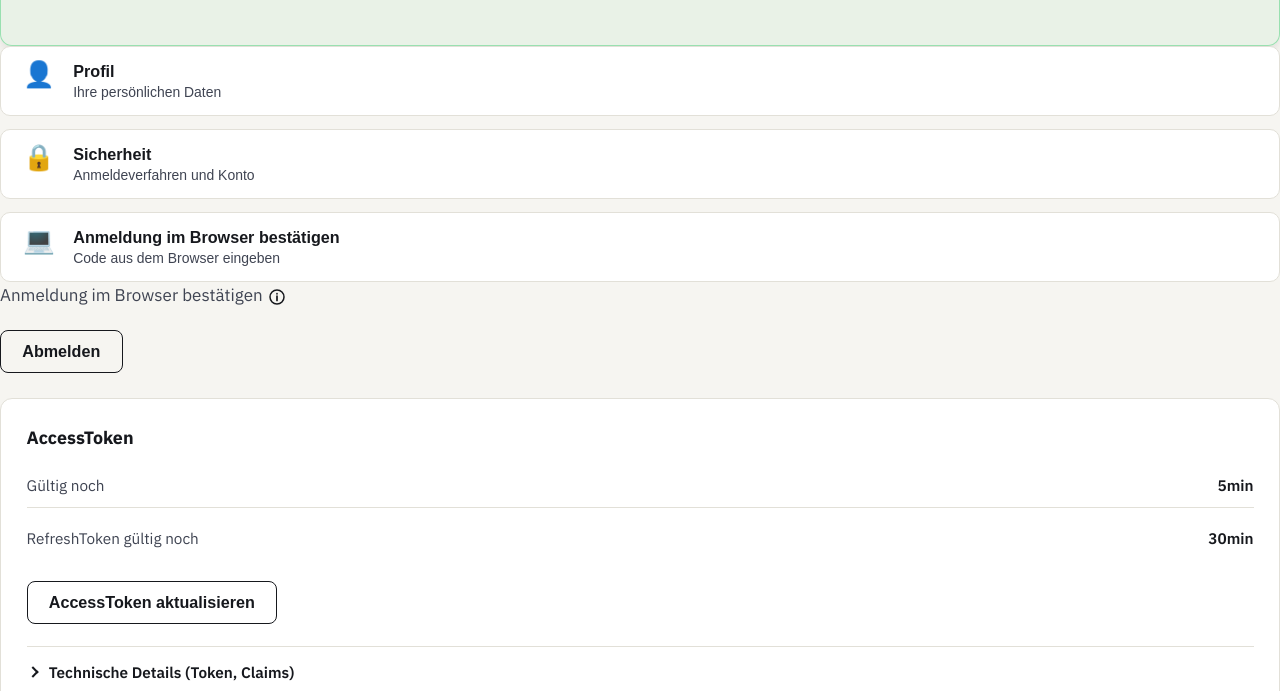
AuthenticationCompletedView › fetches the ID claims again after the token was renewed, so a changed name shows
(page scrolled)
Click the button "AccessToken aktualisieren". click: [152, 603]
box: [26,581,277,624]
(page scrolled)
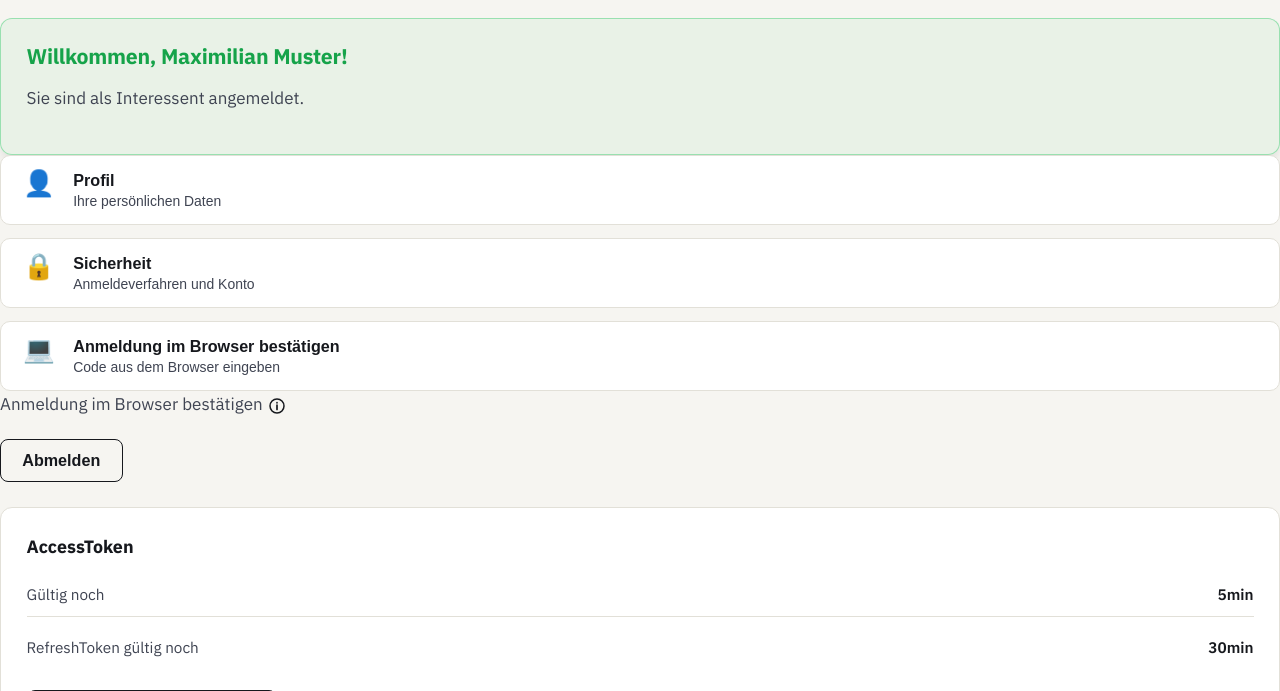
Expected: the heading "Willkommen, Maximilian Muster!" is shown, [26,42,348,70]
